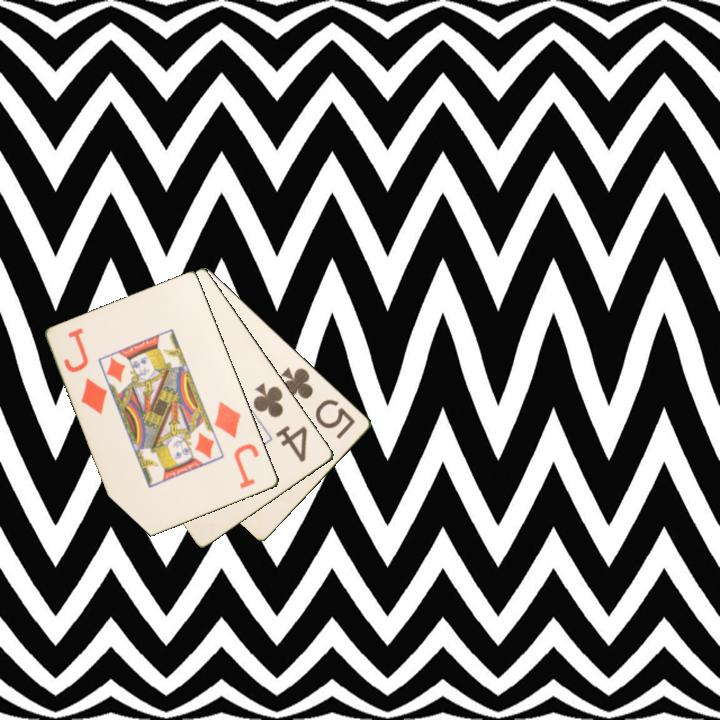4c: (250, 379, 311, 465)
5c: (277, 363, 359, 442)
Jd: (211, 398, 262, 492), (60, 324, 111, 418)
